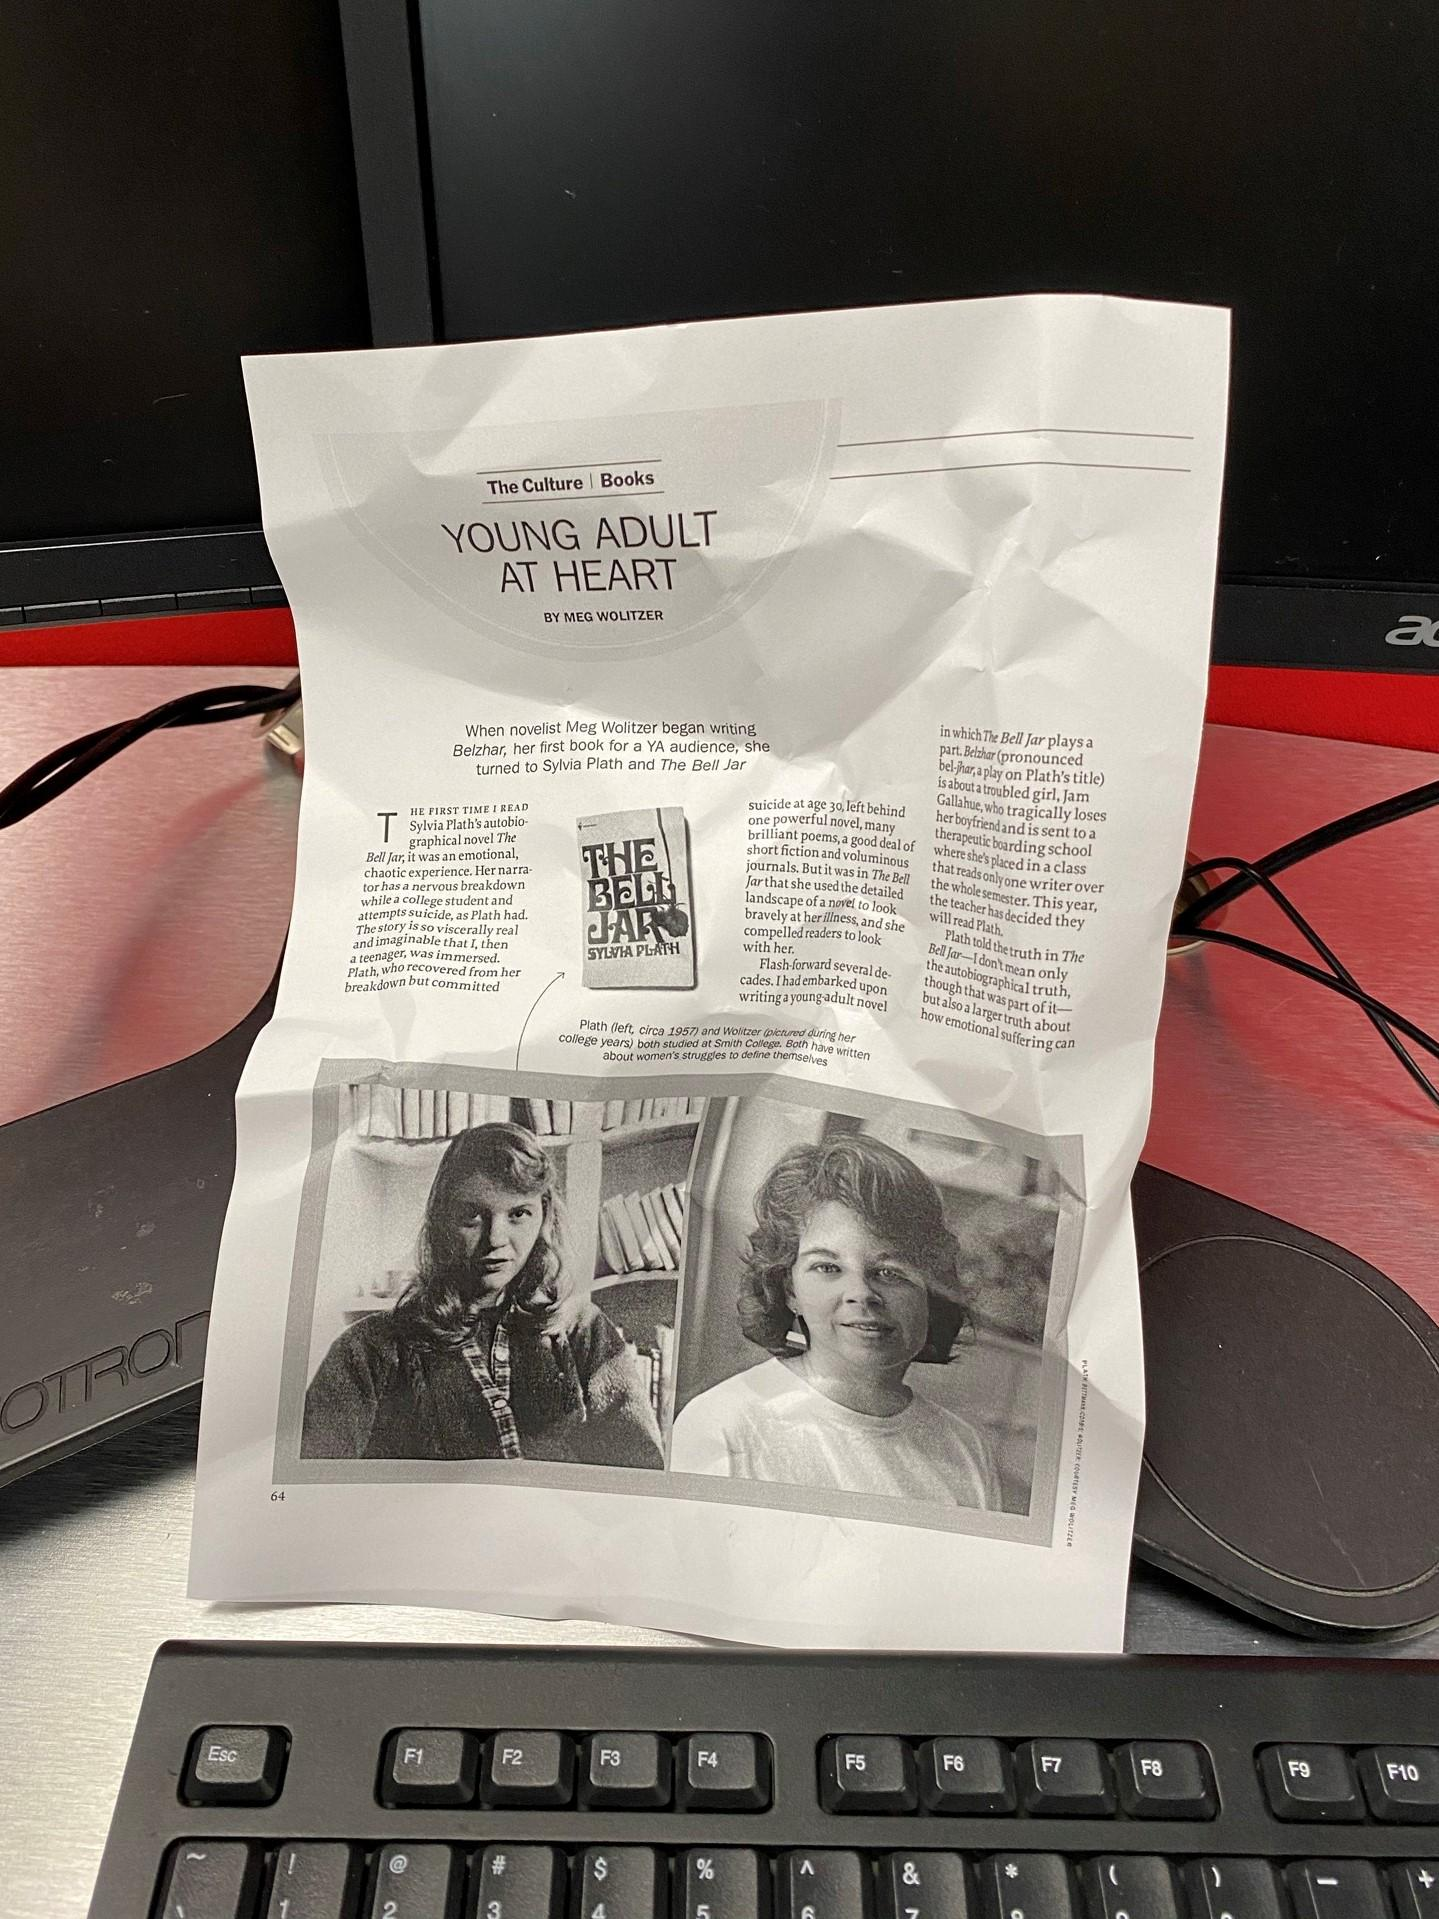paper: (77, 233, 1357, 1739)
